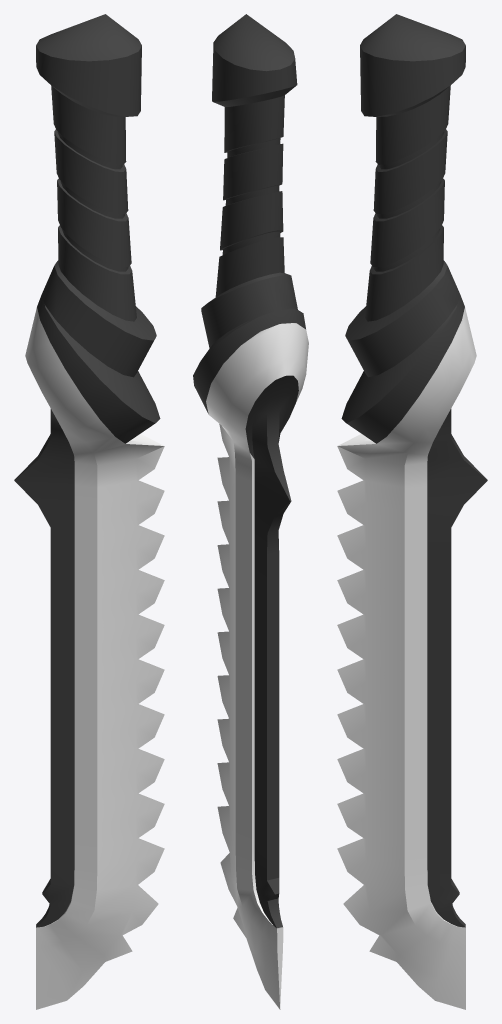
File: knife.fbx
The picture shows the model from 3 angles, left to right: view 1: azimuth 90°, elevation 25°; view 2: azimuth 210°, elevation 25°; view 3: azimuth 270°, elevation 25°; orthographic projection. The views are drawn at different scales.
Visible parts, largest first — view 1: knife; view 2: knife; view 3: knife.
Boxes of the visible parts, x1,y1,x2,y2 form: knife: (14, 14, 164, 1009); knife: (193, 14, 308, 1009); knife: (337, 14, 487, 1009).
Bounding box in the file's own units: 6.26 × 60.12 × 8.24.
